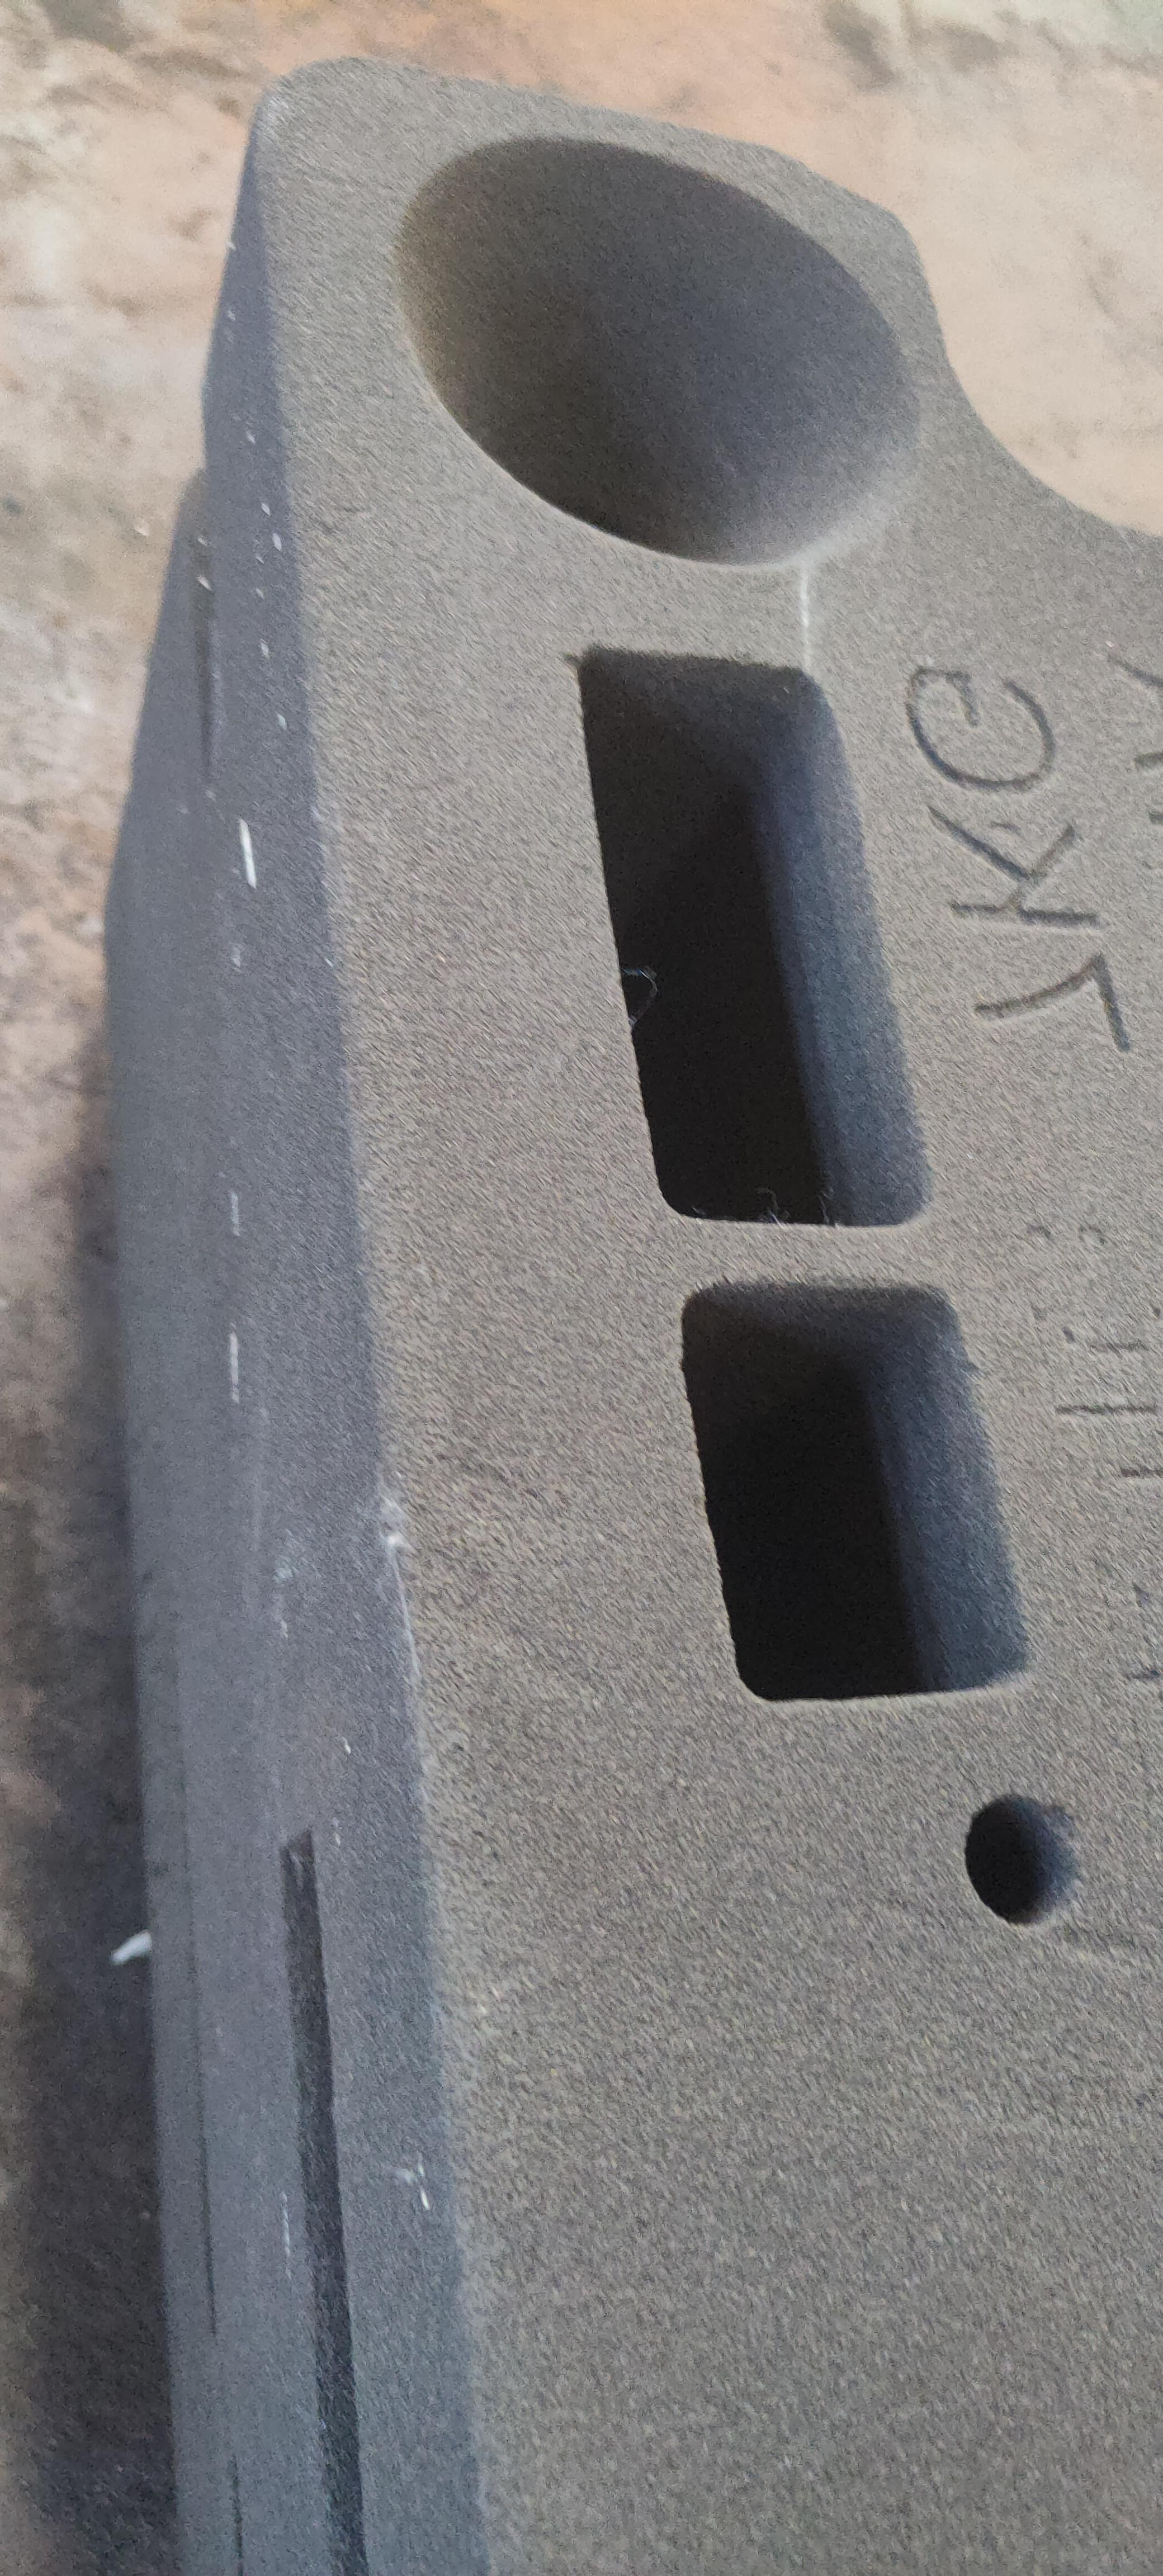pouring hole: (398, 136, 912, 570)
